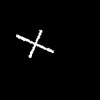single_crochet: (16, 30, 52, 57)
